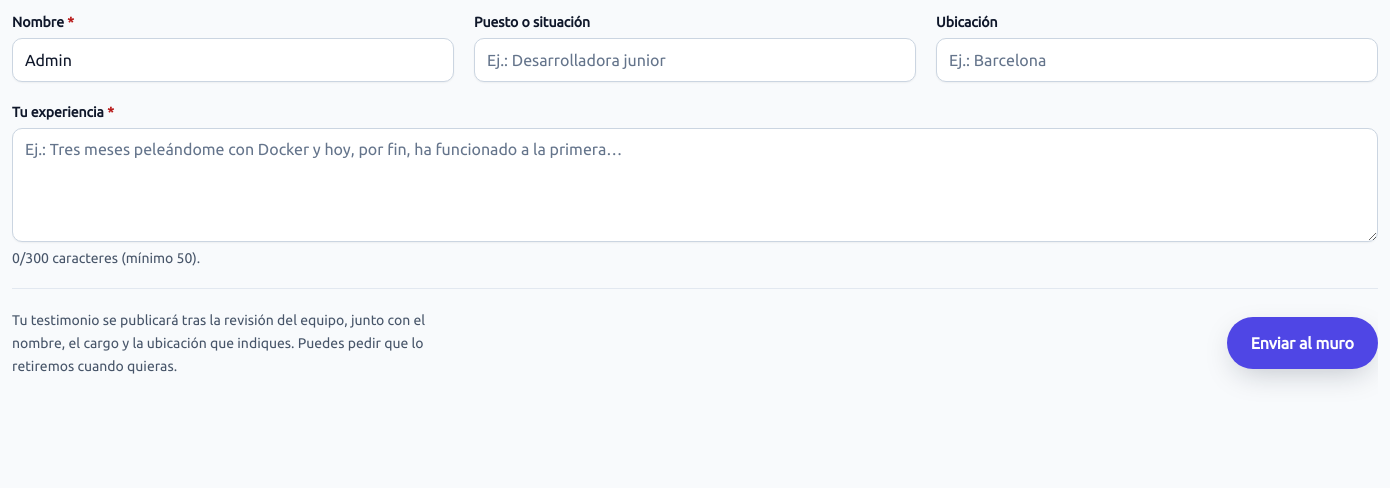
TestimonialForm › a la administración le dice que ya está publicado
In the text box labelled "Tu experiencia *": (695, 185) [12,128,1378,242], type "Tres meses peleándome con Docker y hoy, por fin, ha funcionado a la primera. ¡Seguimos!"
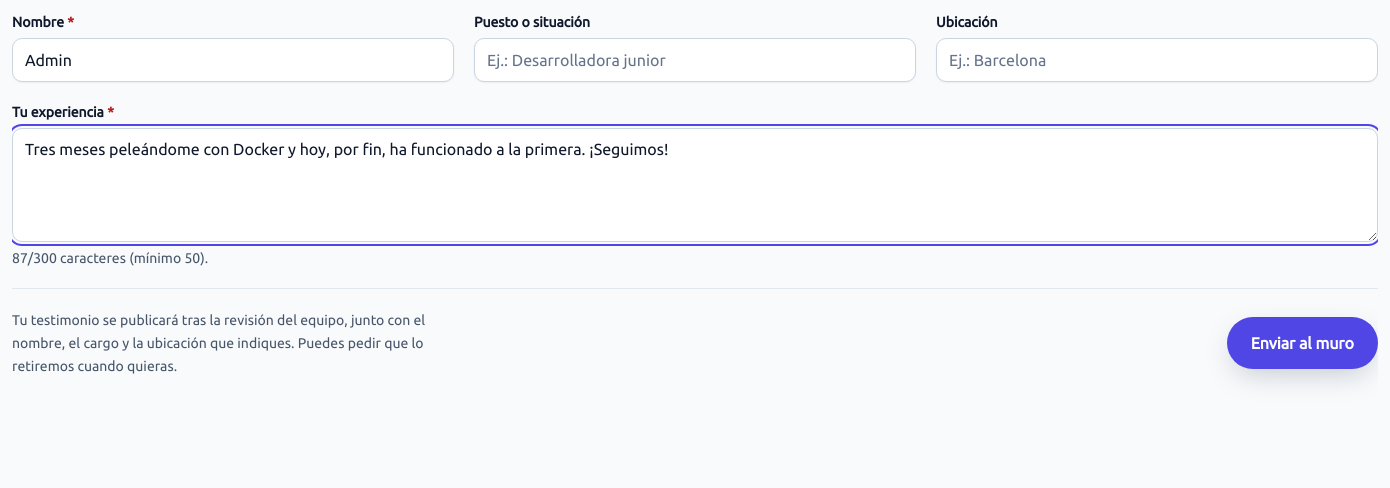
Click the button "Enviar al muro": (1302, 343) [1227,317,1378,369]
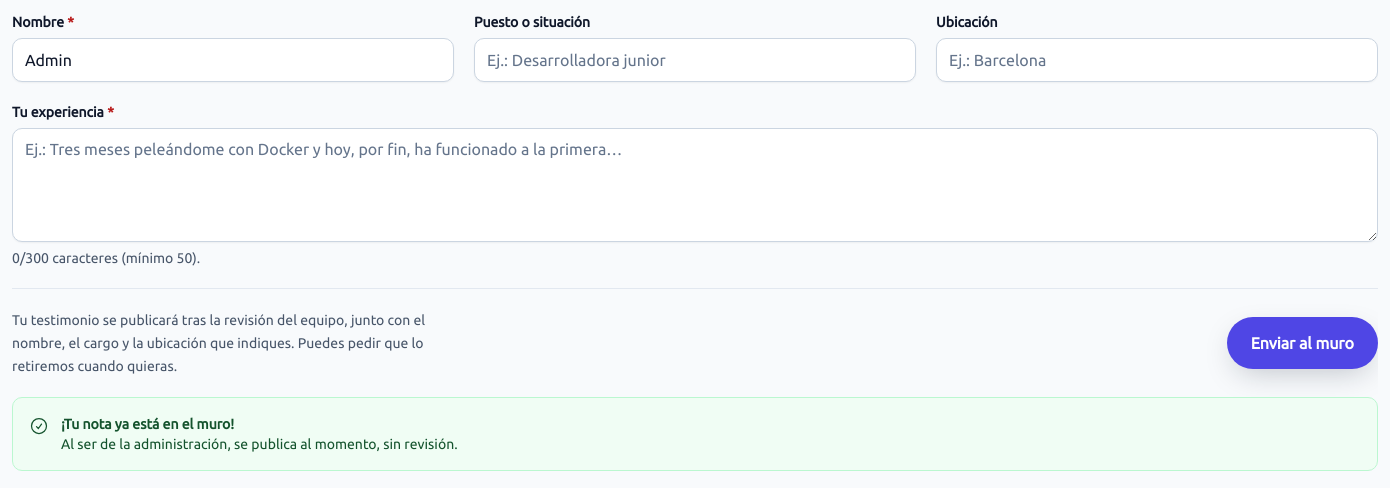
Result: the text "¡Tu nota ya está en el muro!" is shown at [61,416,234,432]
